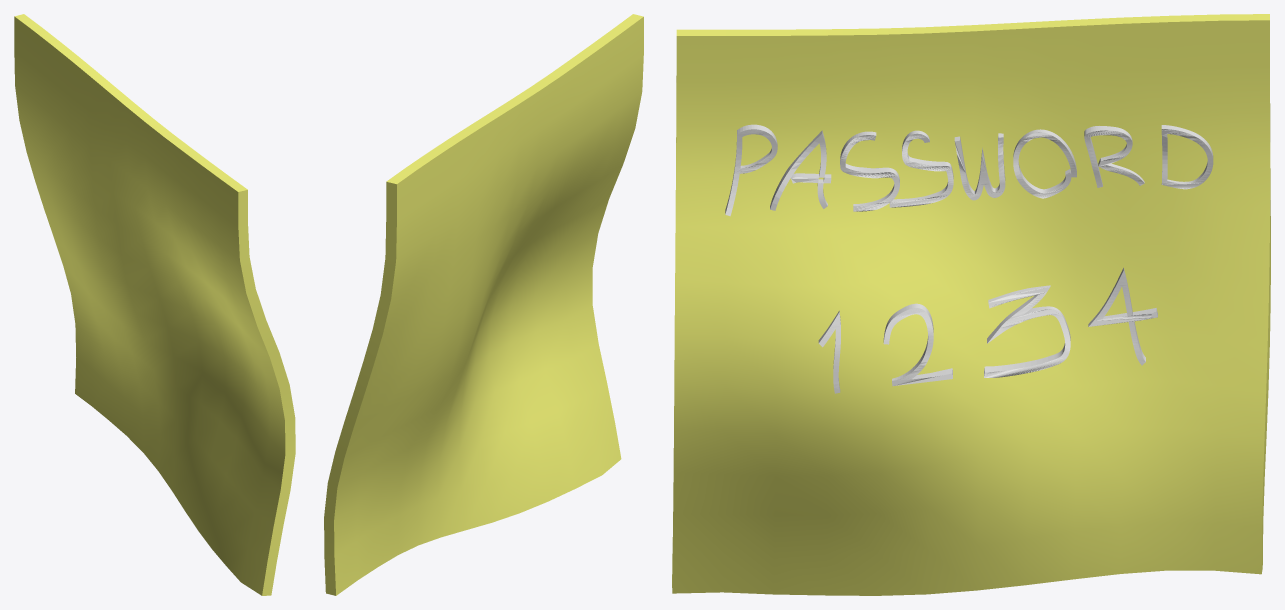
File: TheNote.fbx
3 views of the same model, side by side, from view 1: azimuth 30°, elevation 25°; view 2: azimuth 150°, elevation 25°; view 3: azimuth 270°, elevation 25° (orthographic). The views are drawn at different scales.
Visible parts, largest first — view 1: Note; view 2: Note; view 3: Note, PasswordText.
Boxes of the visible parts, <box> form: Note: <box>14,14,295,595</box>; Note: <box>324,14,643,595</box>; Note: <box>672,14,1270,595</box>; PasswordText: <box>725,124,1213,393</box>.
Size of the model in its own units: 147 by 764 by 742.
